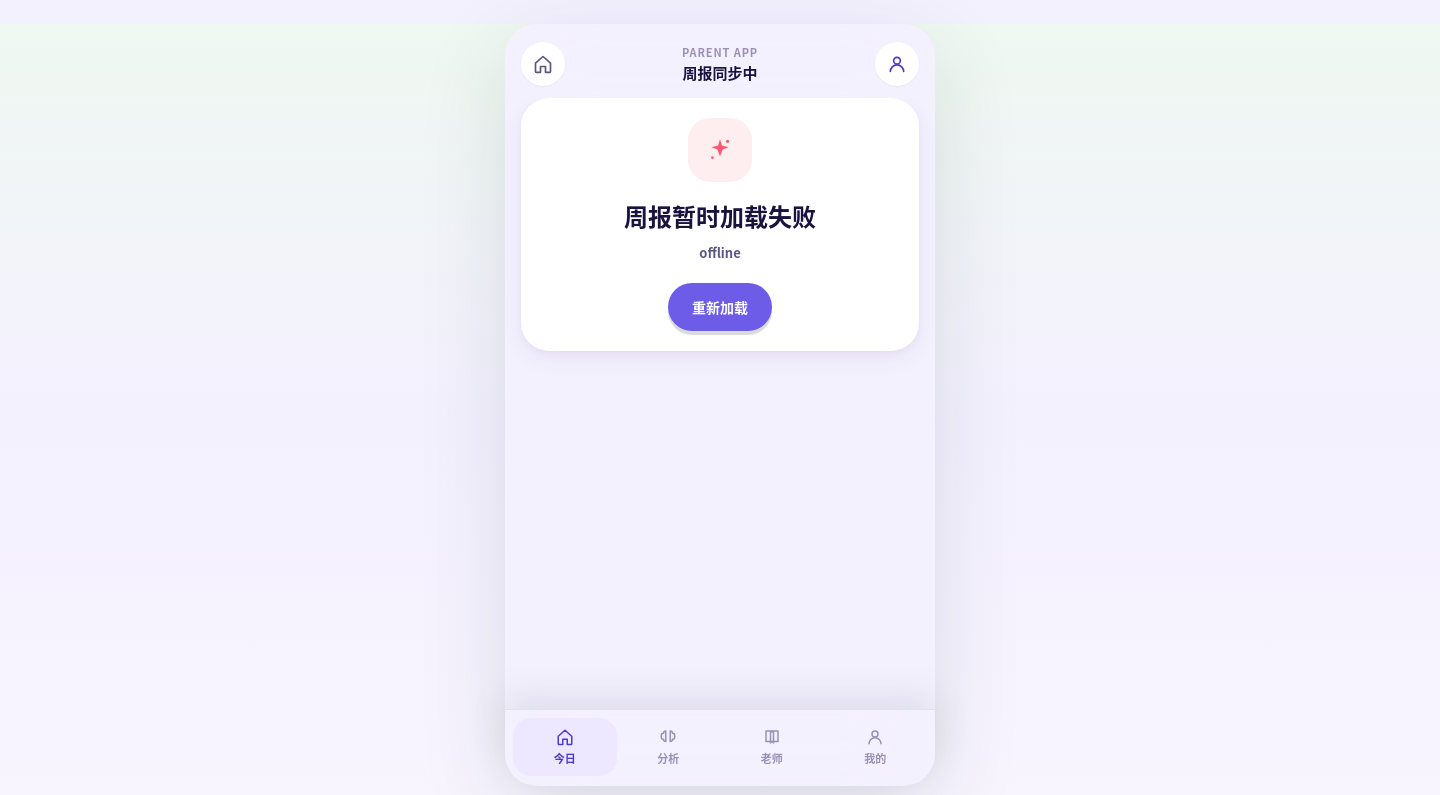
it: ParentScreen › shows an API failure state and retries loading the report
Expected: the heading "周报暂时加载失败" is shown, x1=624 y1=198 x2=816 y2=233
Expected: the text "offline" is shown, x1=699 y1=243 x2=741 y2=262
Step 1. Click the button "重新加载" → click(720, 307), box x1=668 y1=283 x2=772 y2=331
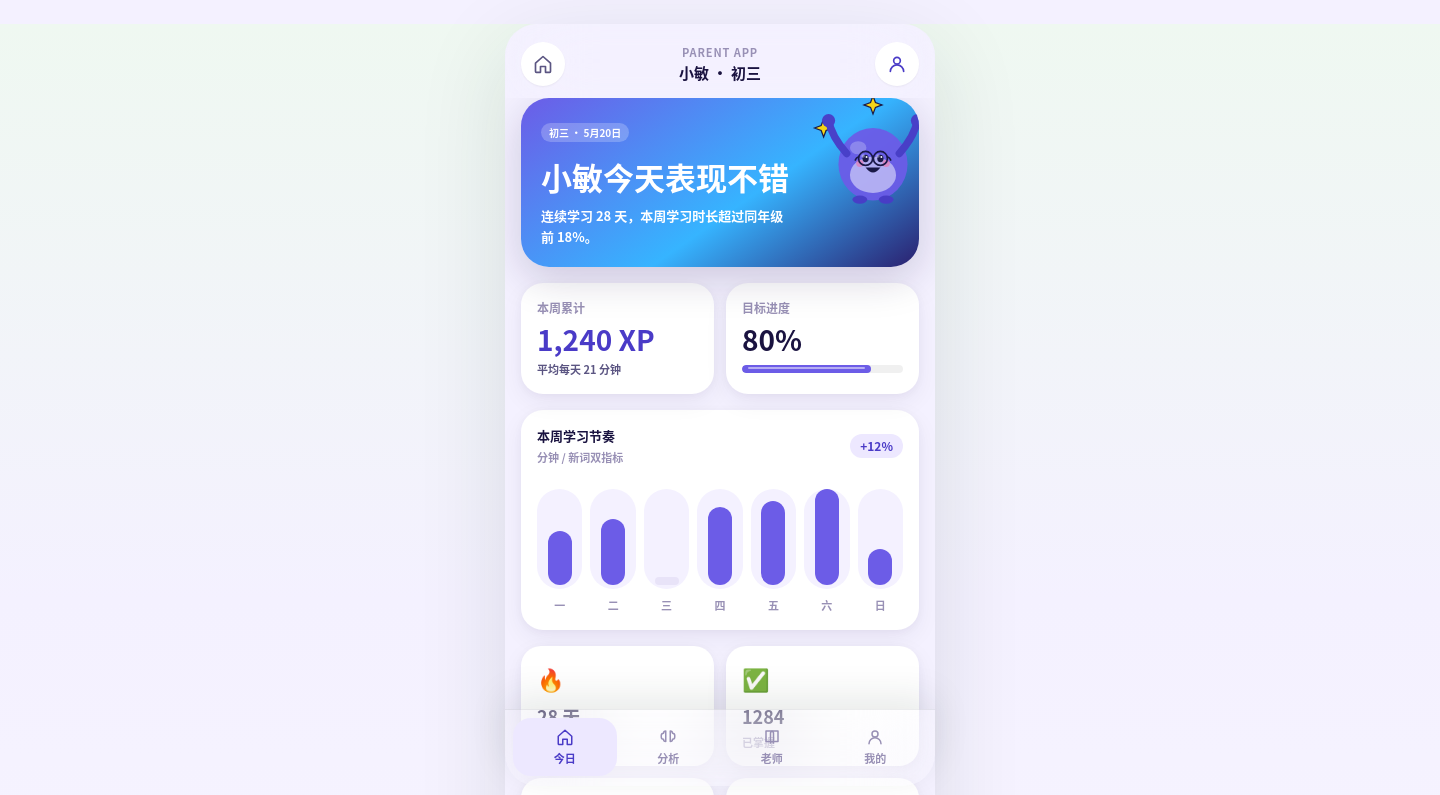
Result: the heading "小敏今天表现不错" is shown at x1=541 y1=158 x2=791 y2=197
